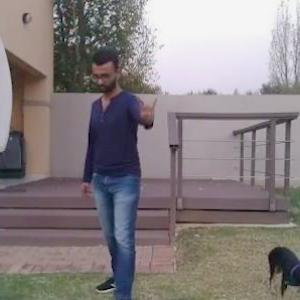takeoff-hand: (129, 90, 165, 126)
